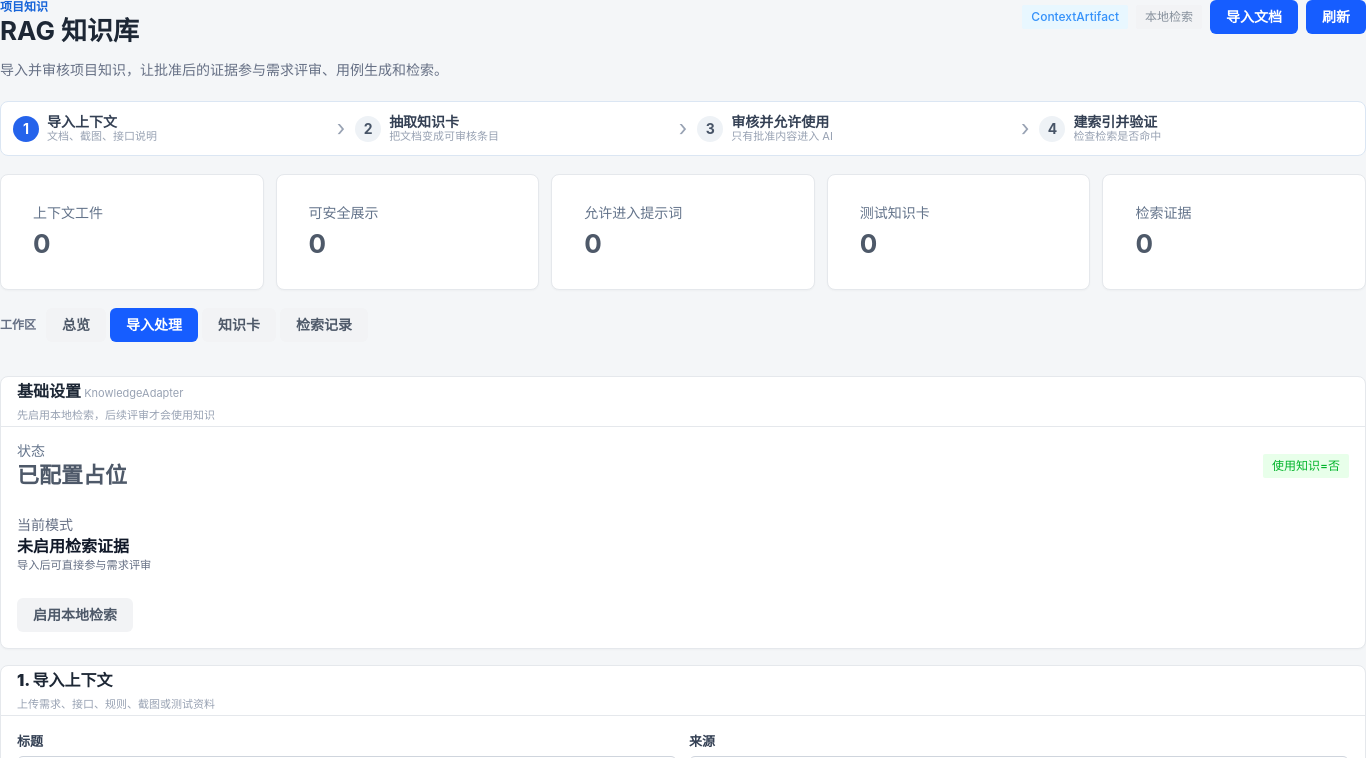
it: KnowledgeBaseView › keeps the page useful when no retrieval evidence exists
Click the button with test id "view-retrieval" at point(324, 325), box top-left (280, 308), bottom-right (368, 342)
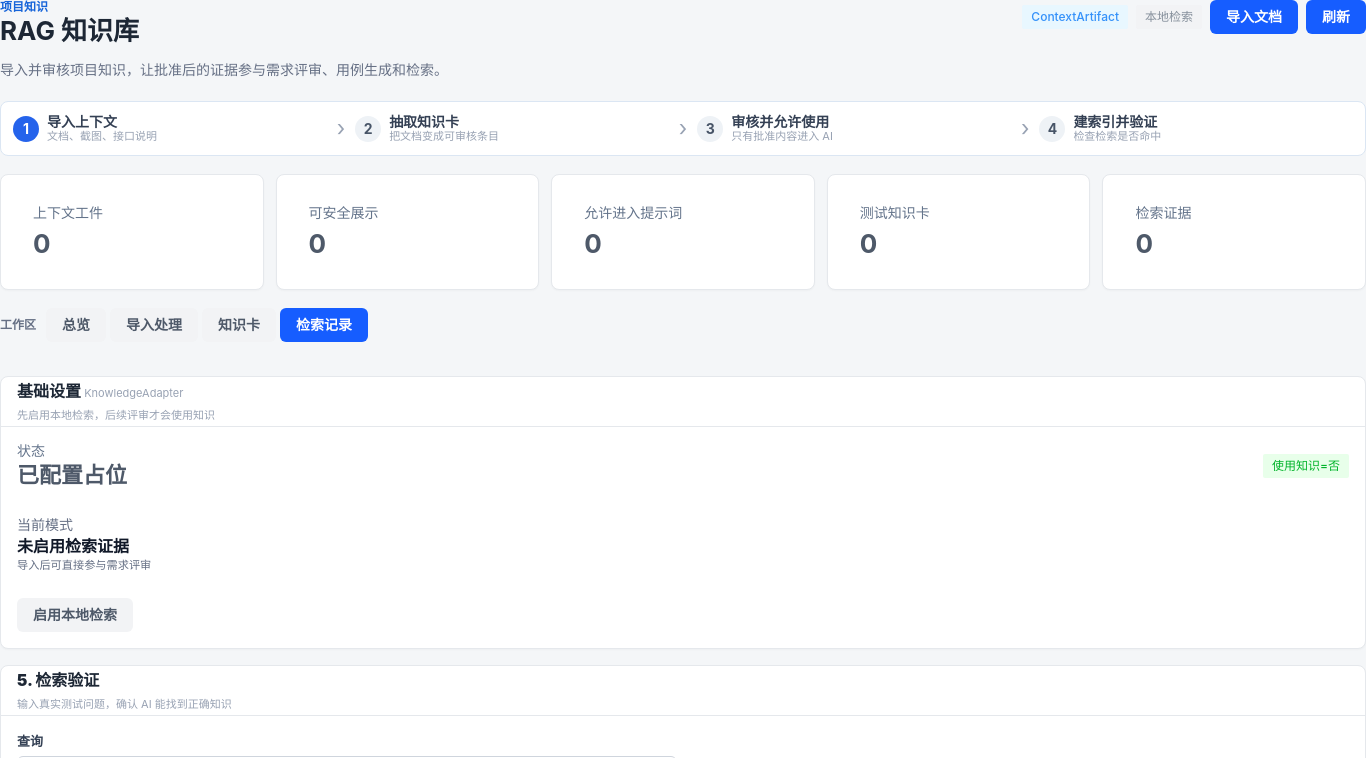
Expected: the text "ContextArtifact" is shown, top-left (1022, 5), bottom-right (1128, 29)
Click the button with test id "view-cards" at point(239, 325), box top-left (202, 308), bottom-right (276, 342)
(page scrolled)
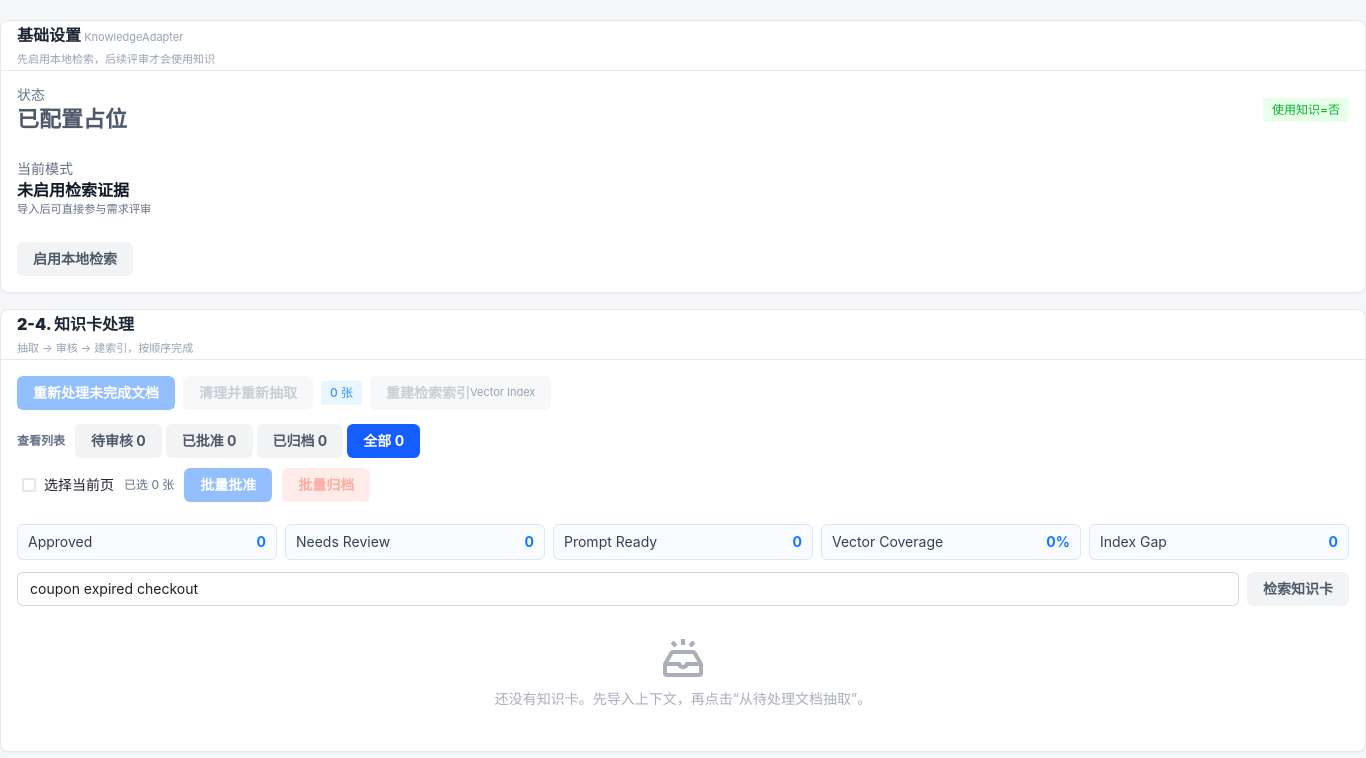
Result: the element with test id "knowledge-readiness-strip" shows "Approved 0" at top-left (17, 524), bottom-right (1349, 560)
Result: the element with test id "knowledge-readiness-strip" shows "Needs Review 0" at top-left (17, 524), bottom-right (1349, 560)
Result: the element with test id "knowledge-readiness-strip" shows "Prompt Ready 0" at top-left (17, 524), bottom-right (1349, 560)
